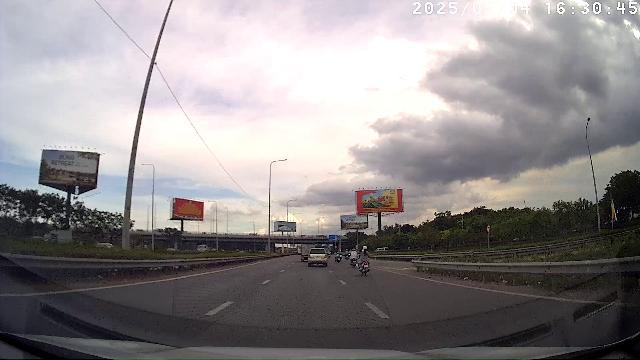123a-cam-re-trai: (486, 224, 492, 232)
